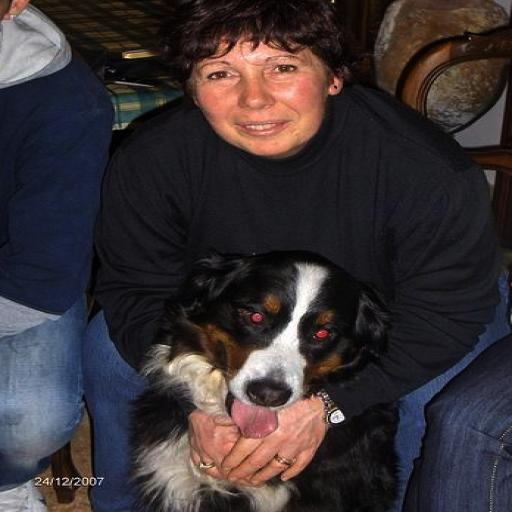dog_face: (172, 240, 402, 420)
